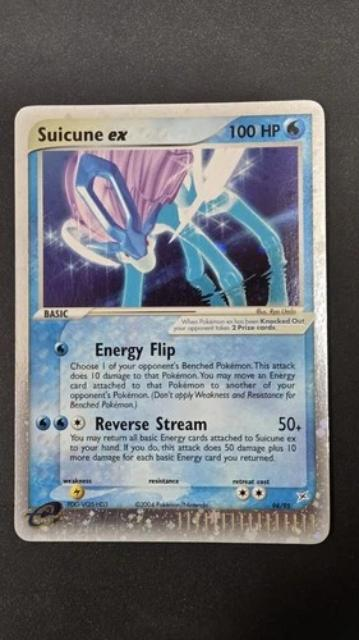Card: (10, 96, 332, 548)
Name: (32, 119, 134, 146)
